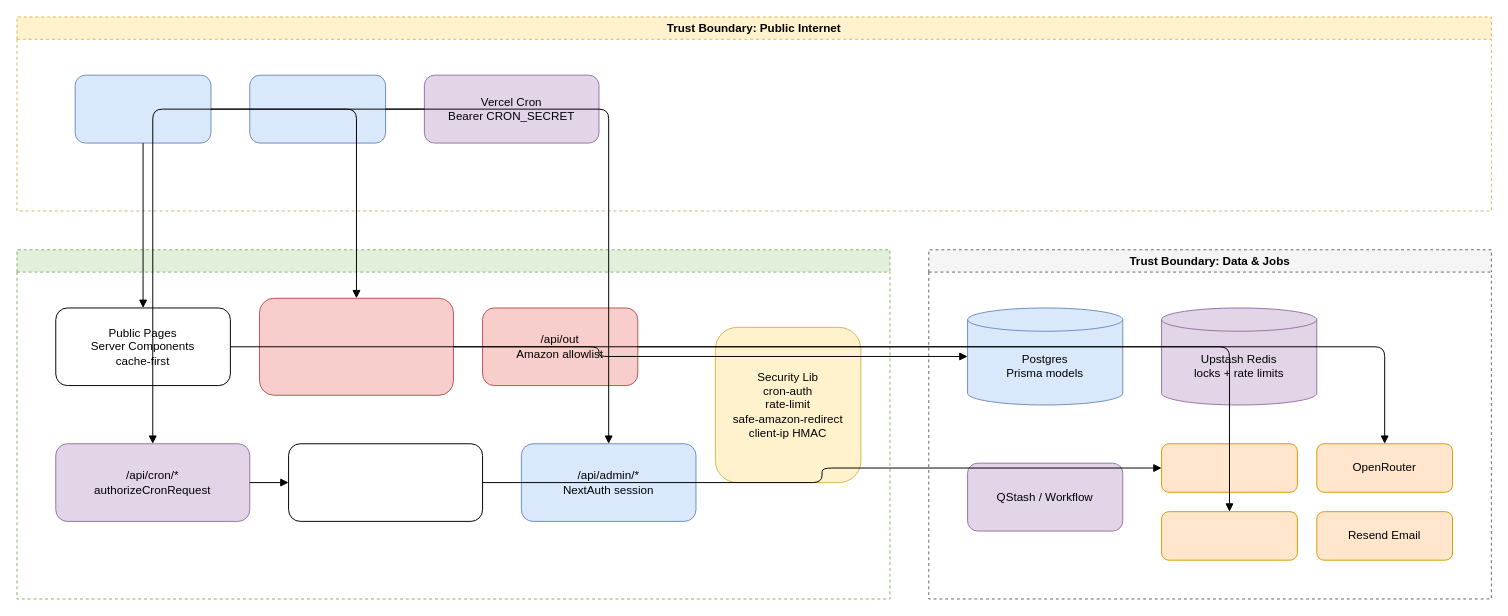
Some shapes in this 1508 by 616 pixel diagram are drawn without their labels. The box of each missing label's shape, as (x1, y1, x2, y2) in pixels:
/api/workflows/* Upstash serve(): (288, 443, 483, 521)
Admin: (249, 74, 386, 143)
Amazon Affiliate: (1161, 511, 1297, 560)
Public APIs /api/chat /api/compare/ai /api/barcode (rate-limited): (259, 297, 453, 395)
RapidAPI Amazon: (1161, 443, 1297, 492)
Trust Boundary: Vercel App (Next.js 15): (16, 249, 890, 599)
Website User: (74, 74, 211, 143)
